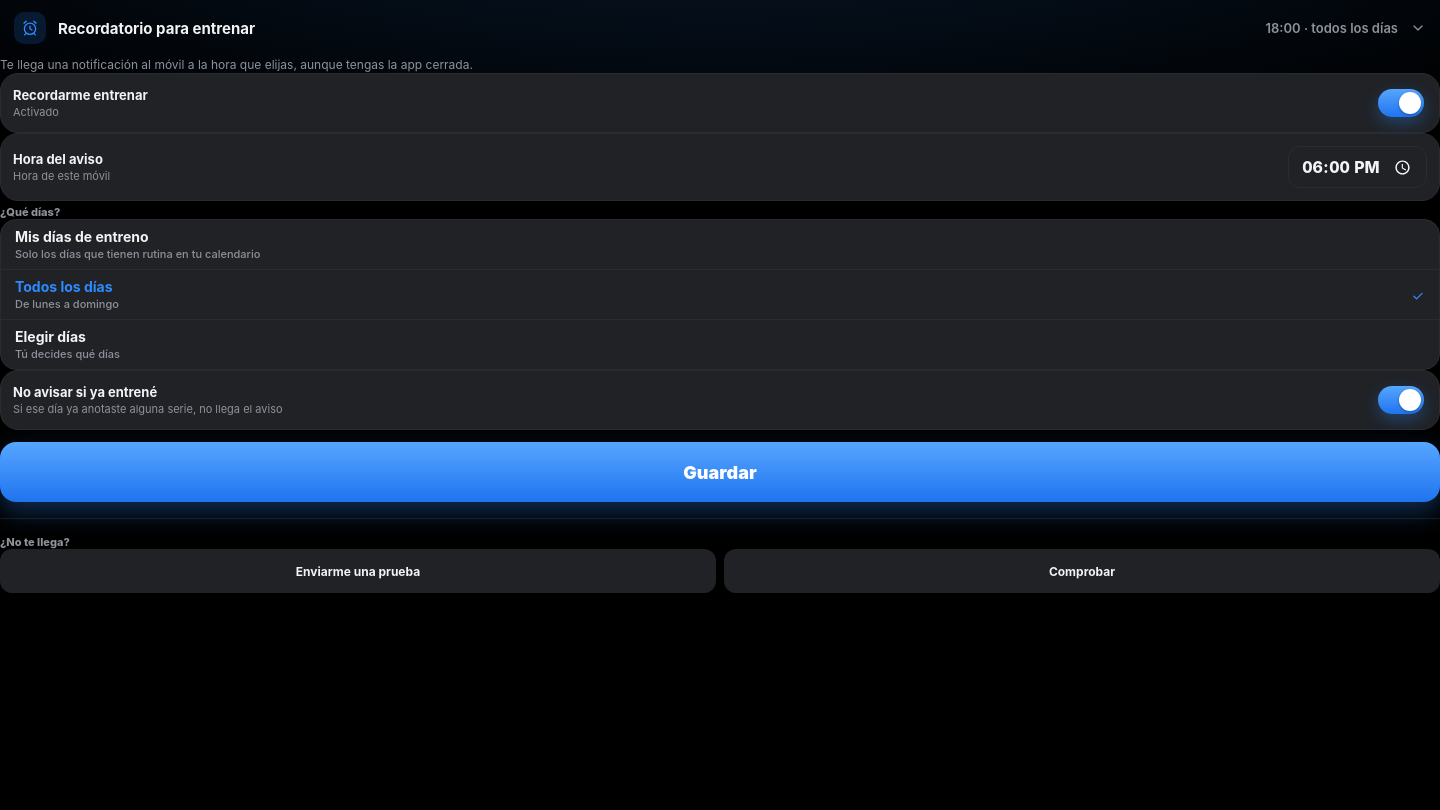
Test: Recordatorio · ¿no te llega? › si este móvil no está apuntado, lo dice
Click the button "Comprobar" at [1082, 571], box x1=724 y1=549 x2=1439 y2=593
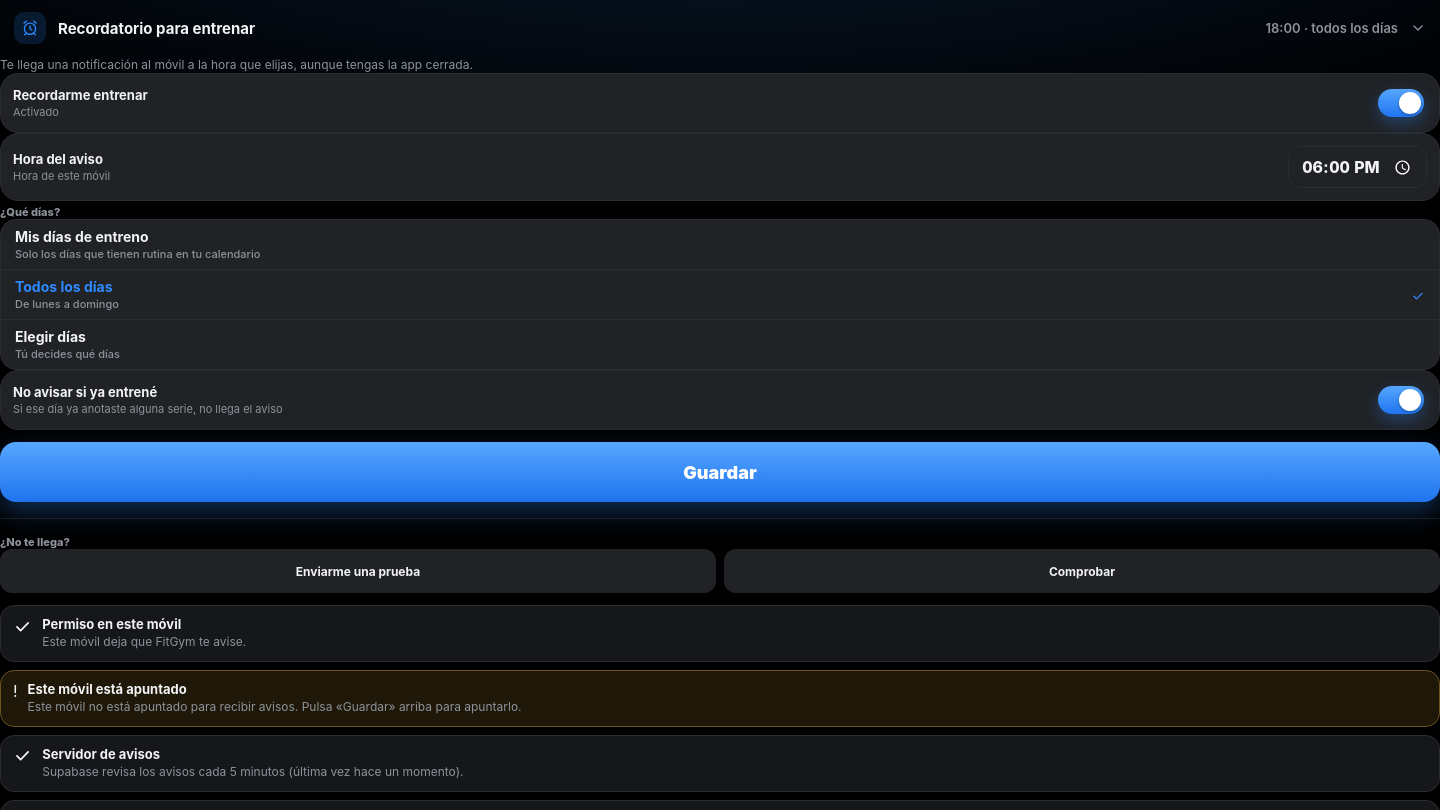
expect the text "Este móvil no está apuntado" is shown: met, box x1=28 y1=699 x2=522 y2=714
